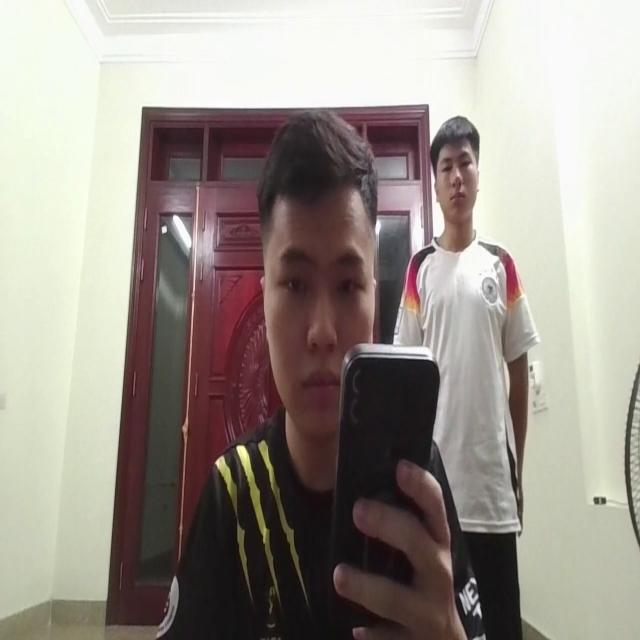extra_person: (407, 110, 530, 550)
phone: (331, 336, 435, 606)
student: (211, 113, 439, 640)
